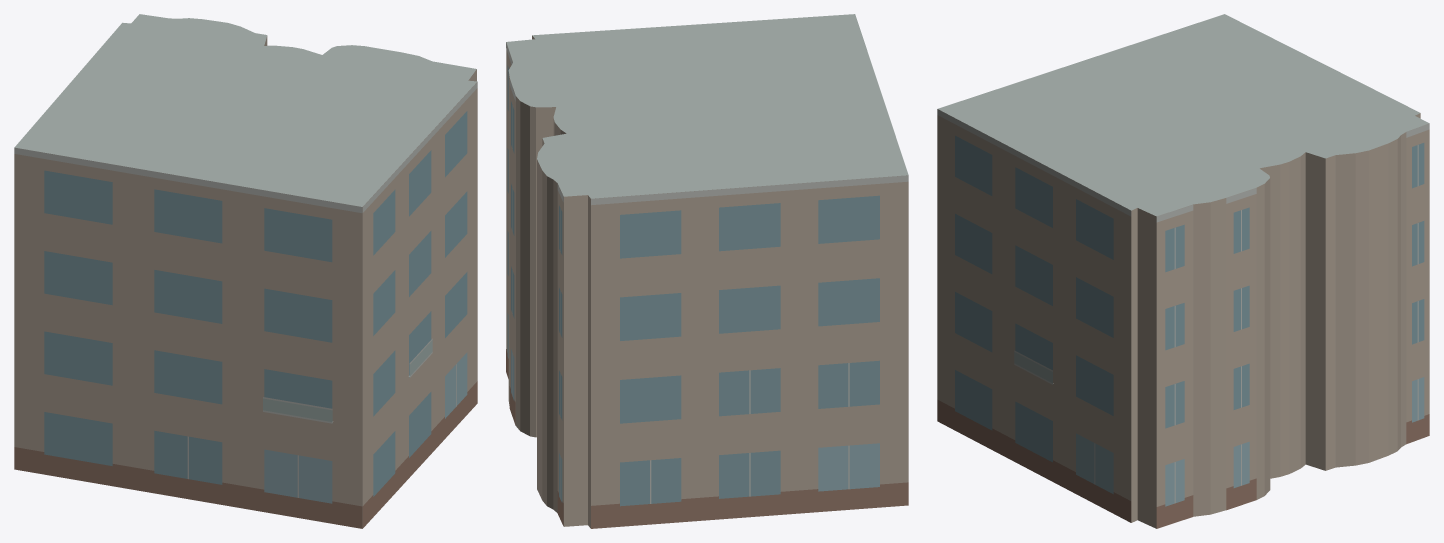
Rendered from survey-upis-32746037.glb.
3 views of the same model, side by side, from view 1: azimuth 30°, elevation 25°; view 2: azimuth 150°, elevation 25°; view 3: azimuth 270°, elevation 25° (orthographic). The views are drawn at different scales.
Parts seen in each view (by area): view 1: survey-upis-32746037.tmp; view 2: survey-upis-32746037.tmp; view 3: survey-upis-32746037.tmp.
Part boxes in pixels (x1,y1,x2,y2): survey-upis-32746037.tmp: (14,14,477,528); survey-upis-32746037.tmp: (506,14,908,528); survey-upis-32746037.tmp: (937,14,1429,528).
Size of the model in its own units: 17.38 by 12.5 by 17.85.
